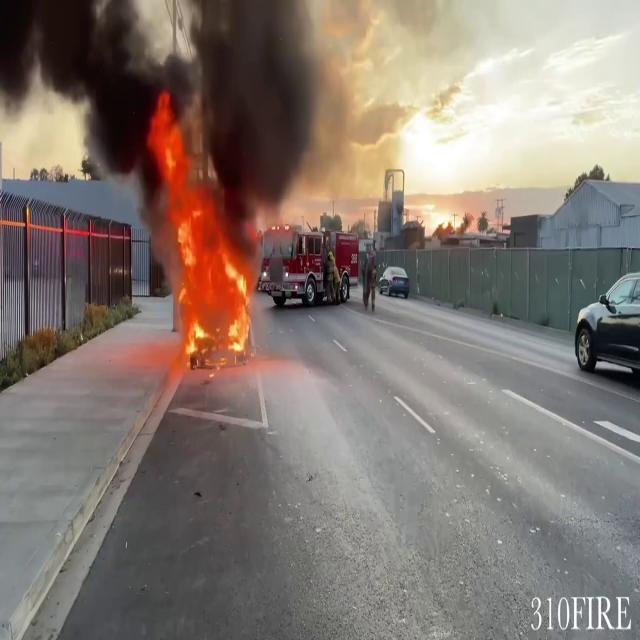Fire: (153, 101, 253, 357)
Smoke: (0, 0, 348, 213)
